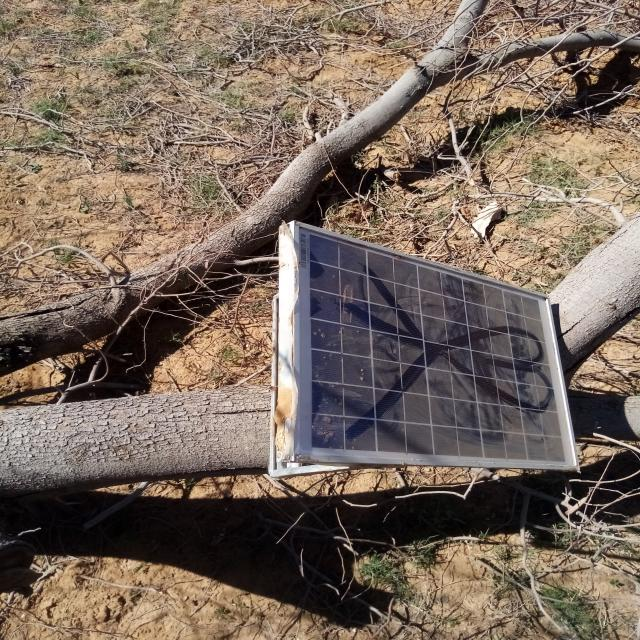faulty: (295, 223, 578, 468)
